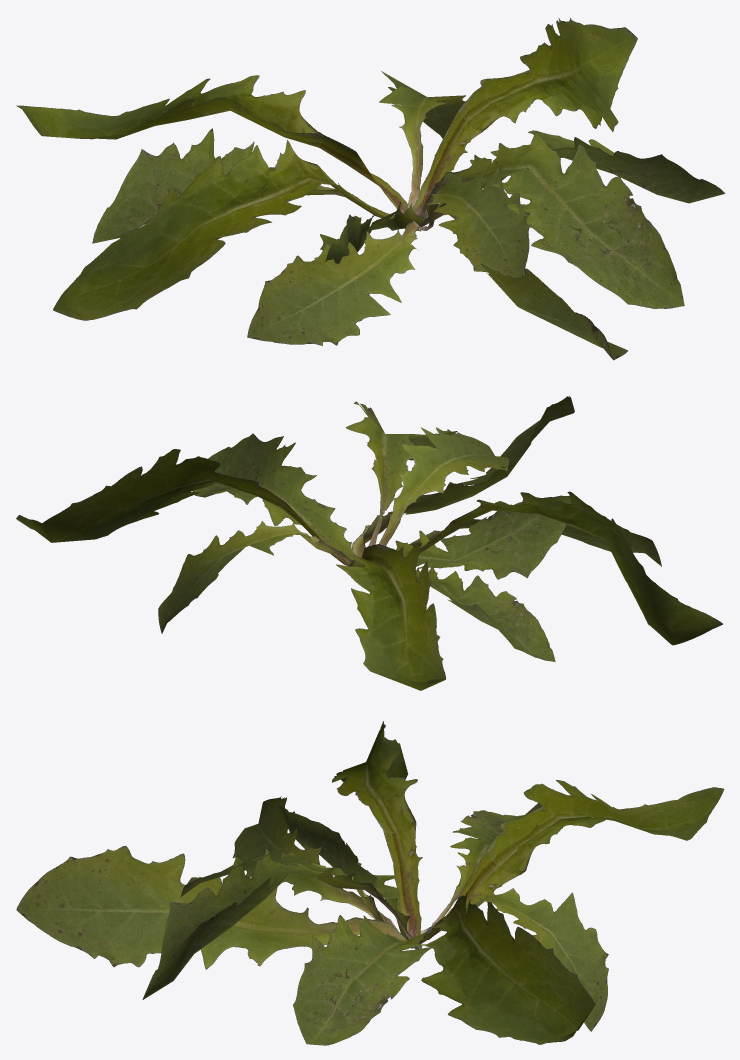
Rendered from dandelion_01_e_LOD1.glb.
3 renders of one model, top to bottom at view 1: azimuth 30°, elevation 25°; view 2: azimuth 150°, elevation 25°; view 3: azimuth 270°, elevation 25°, orthographic. The views are drawn at different scales.
Parts seen in each view (by area): view 1: dandelion_01_e_LOD1__lod0; view 2: dandelion_01_e_LOD1__lod0; view 3: dandelion_01_e_LOD1__lod0.
Boxes of the visible parts, left/top/right/bottom form: dandelion_01_e_LOD1__lod0: left=16, top=18, right=724, bottom=360; dandelion_01_e_LOD1__lod0: left=16, top=396, right=722, bottom=690; dandelion_01_e_LOD1__lod0: left=16, top=721, right=724, bottom=1045.
Size of what is drawn, in the model's own units: 0.2138 by 0.0491 by 0.2054.
1 material, 1 textured.
